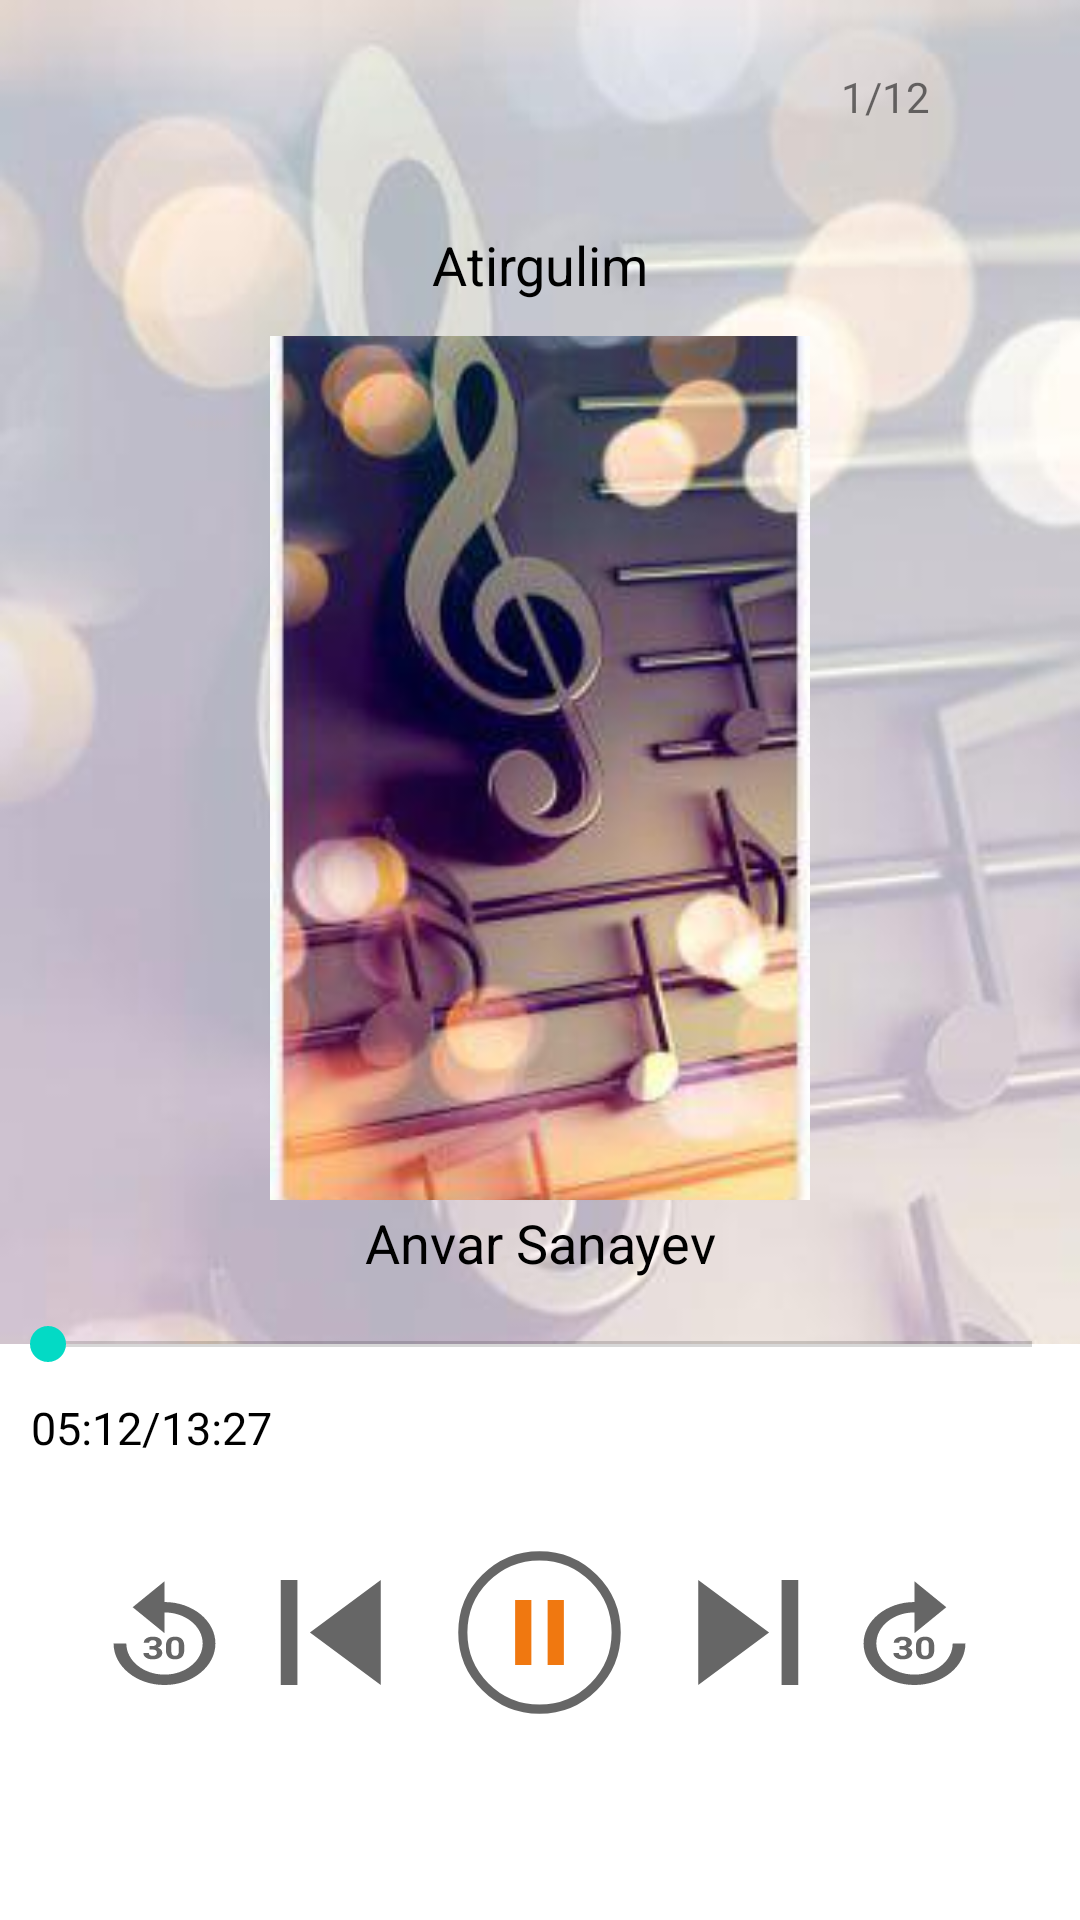

Screen size 1080×1920. Icon name, then its box in pixels as {"left": x1, "top": y1, "right": x2, "bottom": y2}:
back music: {"left": 280, "top": 1580, "right": 381, "bottom": 1685}
next music: {"left": 698, "top": 1580, "right": 799, "bottom": 1685}
pause: {"left": 458, "top": 1551, "right": 621, "bottom": 1714}
